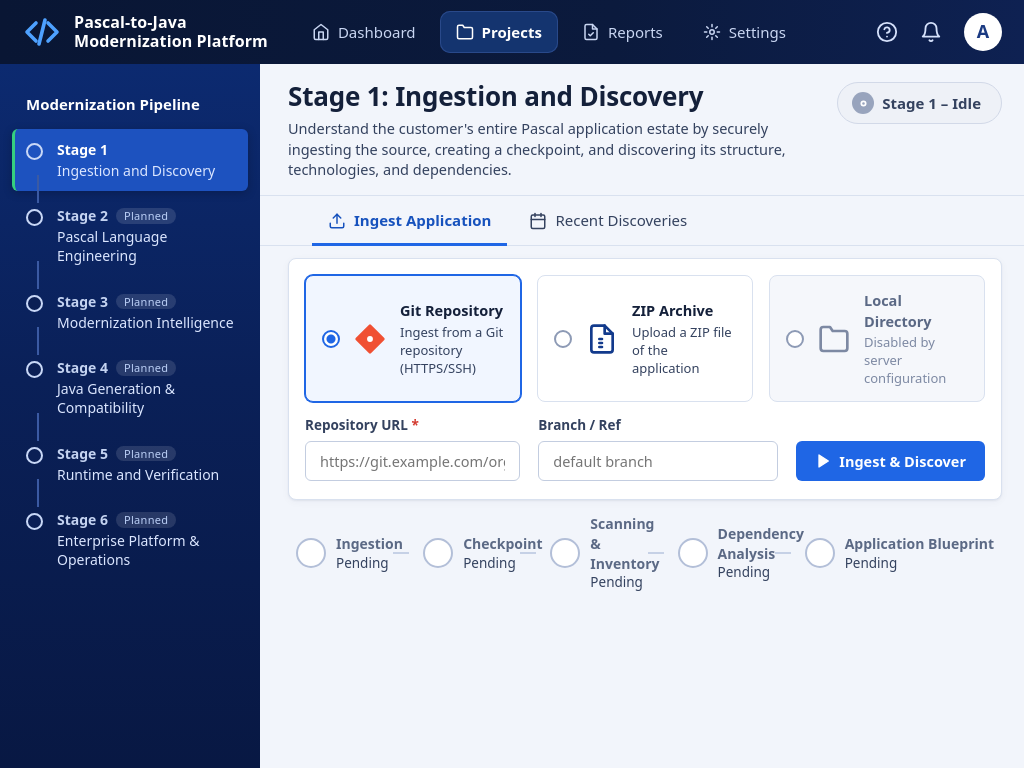
Test: Git form › rejects an empty URL and focuses the field
Click the button "Ingest & Discover". click: (891, 461)
box: 796,441 -> 985,481
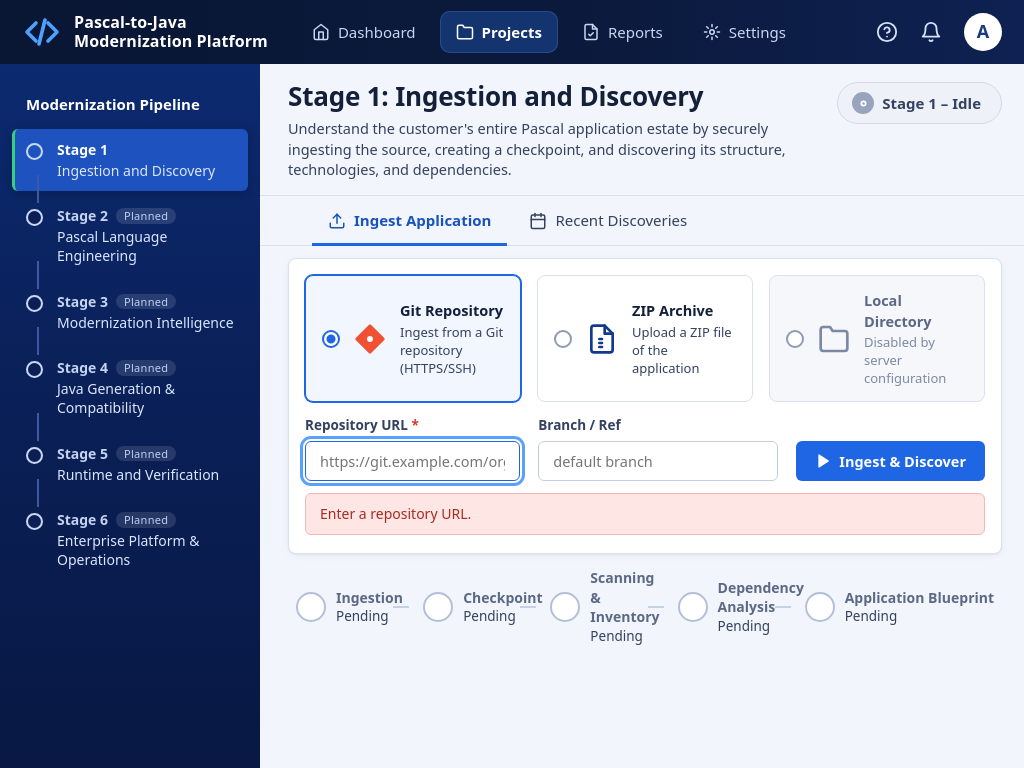
Expected: the message with id "ingest-error" reads "Enter a repository URL.", 320,504 -> 471,523
